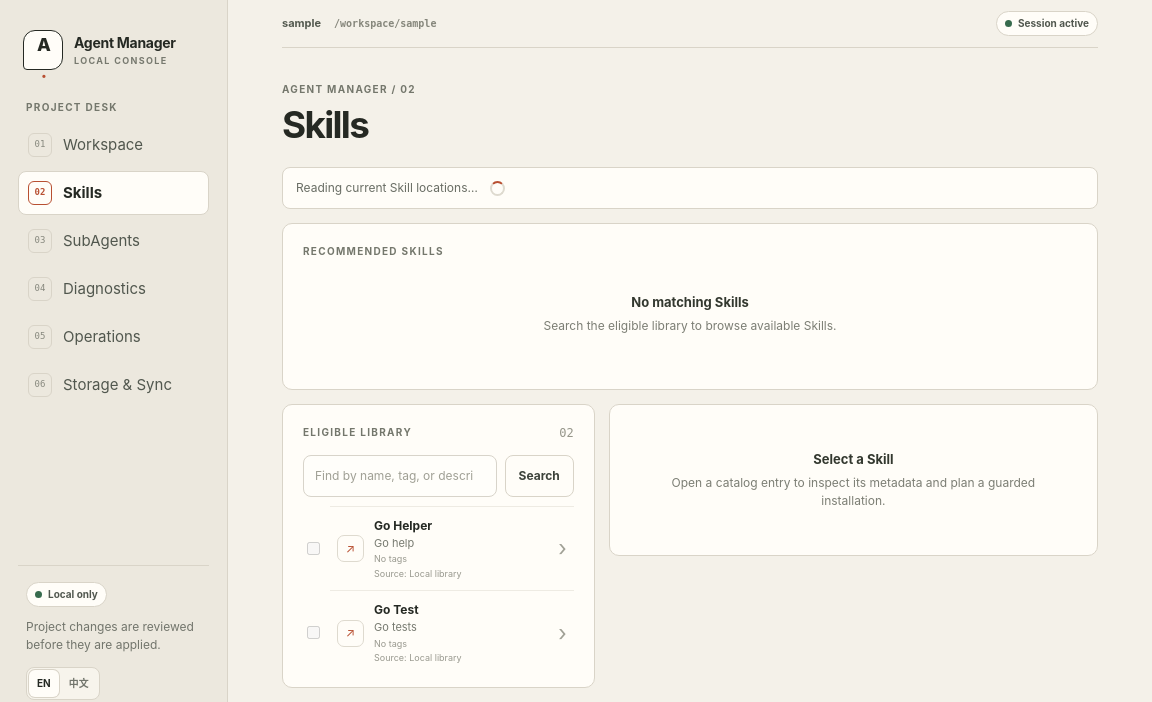
console entry and guarded installation › translates legacy batch plan actions and warnings while preserving unknown text and paths
This screenshot has width=1152, height=702.
Click the checkbox named "Select go-helper" at point(314, 548), box [307,542,320,555]
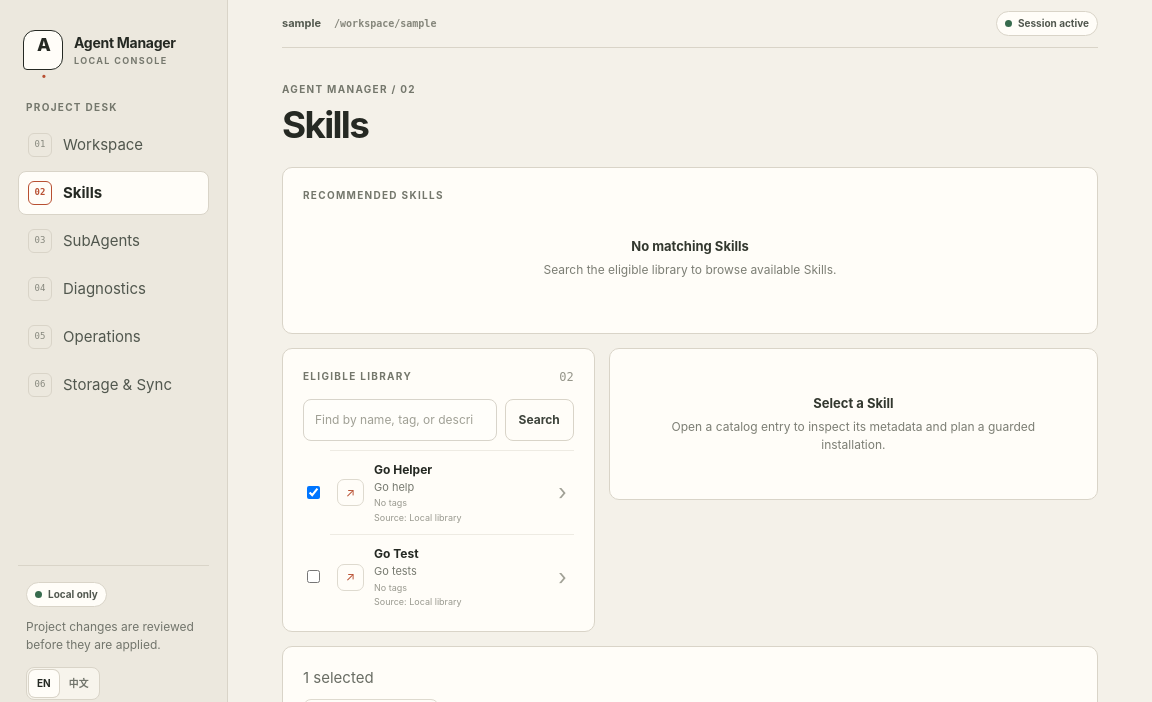
Click the checkbox named "Select go-test" at point(314, 577), box [307,570,320,583]
(page scrolled)
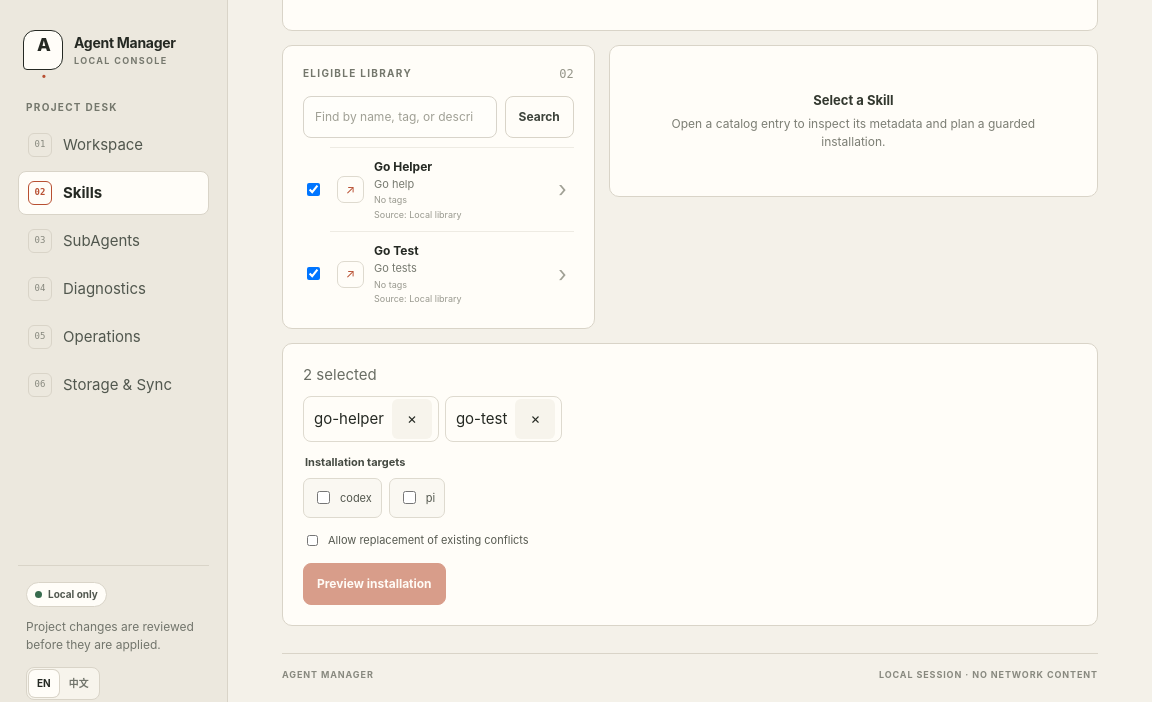
Click the checkbox labelled "pi" at point(409, 498), box [403,491,416,504]
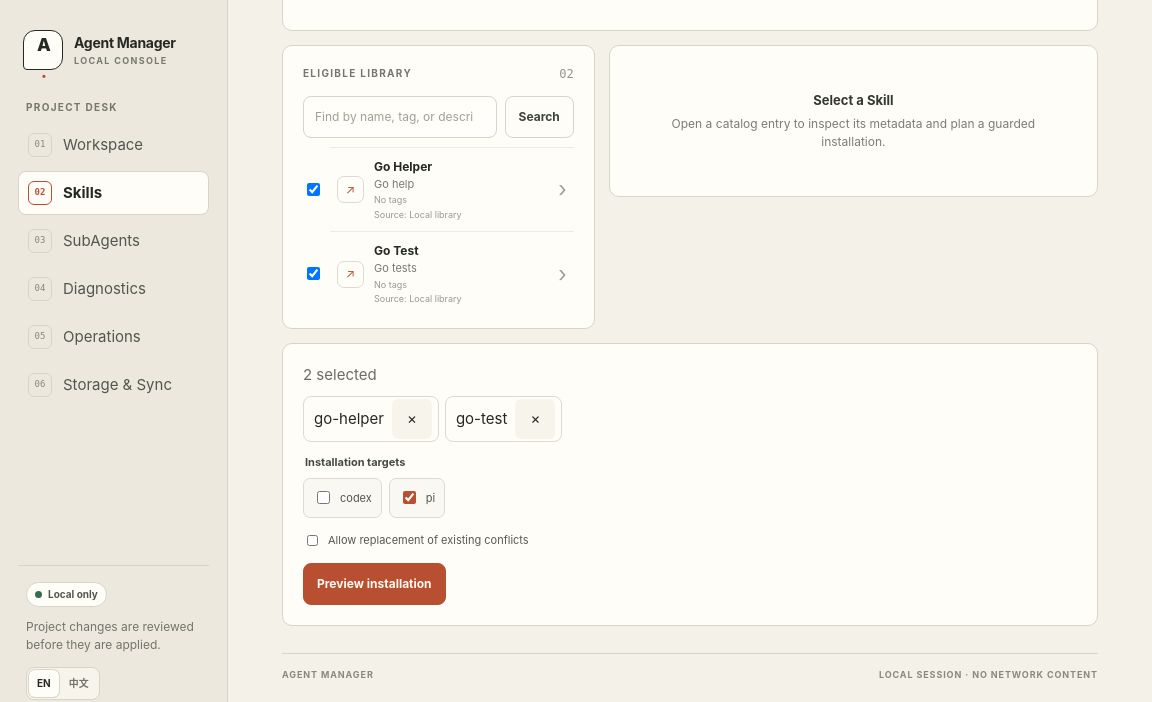
Click the button with aria-label "Simplified Chinese" at point(79, 684), box [61,670,97,697]
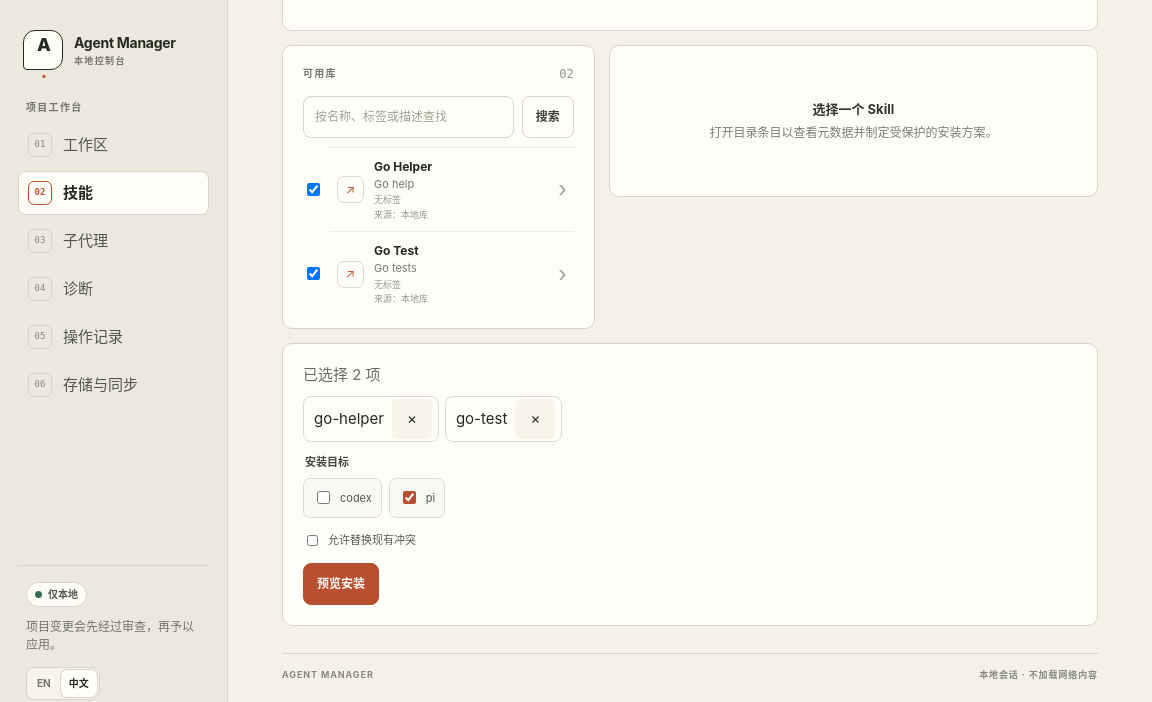
Click the button "预览安装" at point(341, 584), box [303,563,379,605]
(page scrolled)
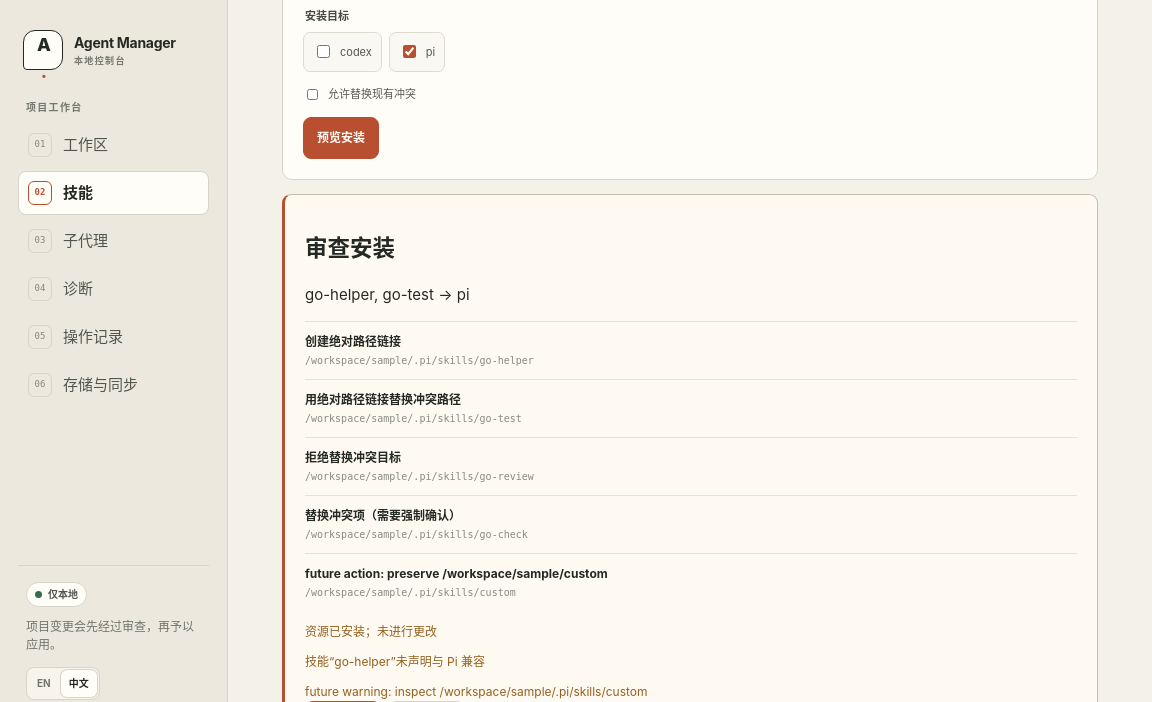
Now the heading "审查安装" is shown, box [305,234,395,262]
Now the text "创建绝对路径链接" is shown, box [305,334,401,349]
Now the text "用绝对路径链接替换冲突路径" is shown, box [305,392,461,407]
